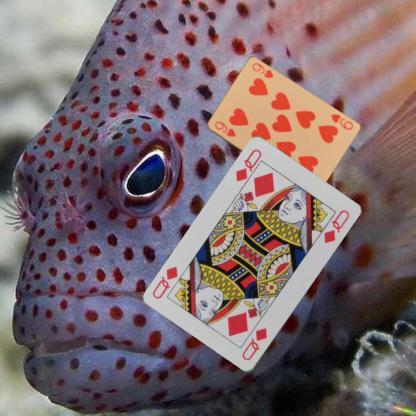9h: (328, 112, 354, 132), (212, 118, 236, 139)
Qd: (233, 146, 264, 190), (240, 326, 269, 362)
